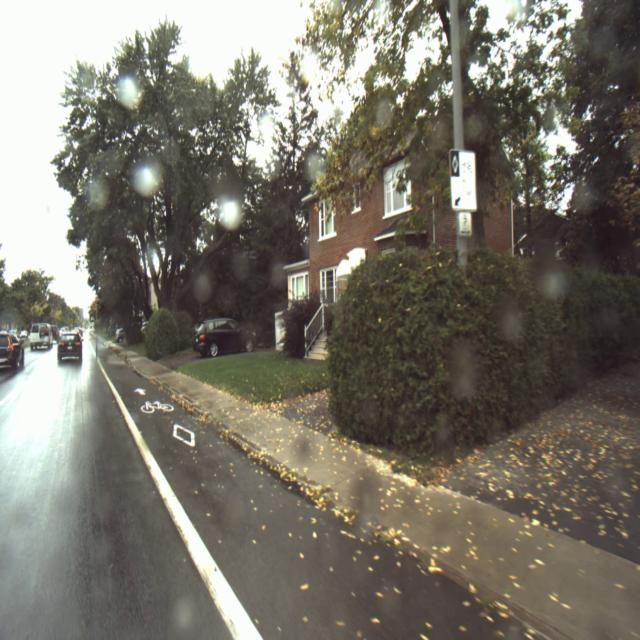car: (192, 316, 257, 358), (0, 330, 25, 374), (57, 331, 83, 364), (30, 322, 54, 352)
